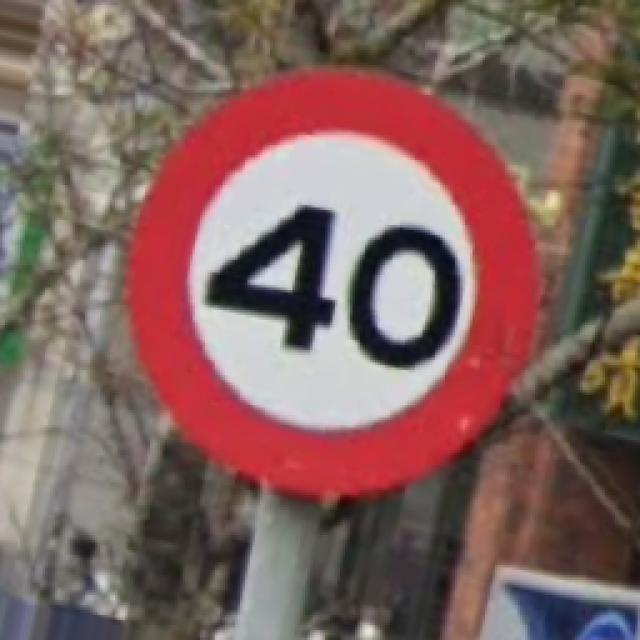Speed Limit -40-: (130, 72, 538, 495)
